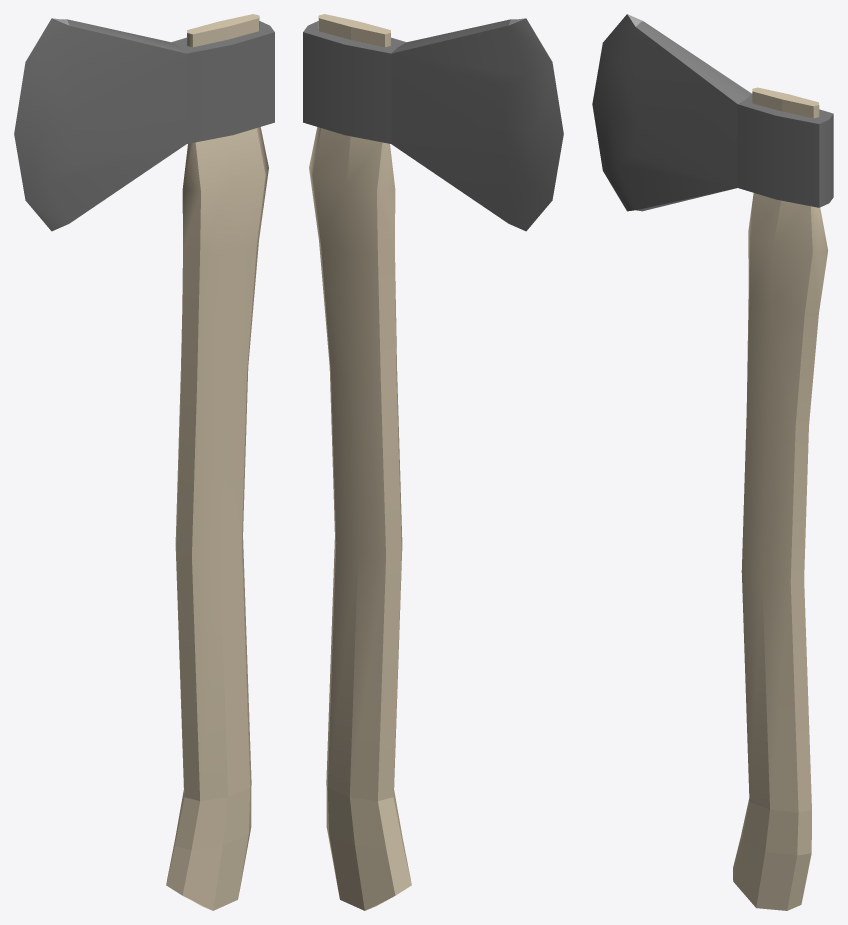
The model's file is axe.fbx.
3 renders of one model, left to right at view 1: azimuth 30°, elevation 25°; view 2: azimuth 150°, elevation 25°; view 3: azimuth 330°, elevation 25°, orthographic. The views are drawn at different scales.
Parts seen in each view (by area): view 1: geo_axe; view 2: geo_axe; view 3: geo_axe.
Part boxes in pixels (x1,y1,x2,y2): geo_axe: (14,14,274,910); geo_axe: (303,14,563,910); geo_axe: (592,14,833,910).
Size of the model in its own units: 0.3159 by 1.09 by 0.0471.
